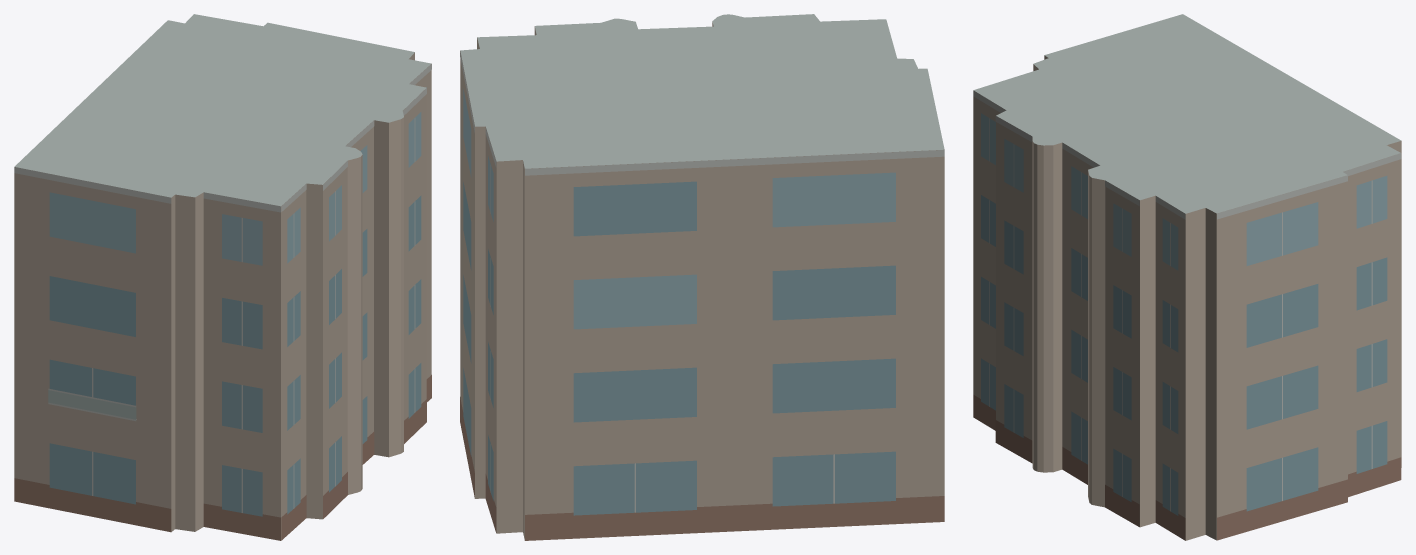
Rendered from survey-upis-32671252.glb.
3 views of the same model, side by side, from view 1: azimuth 30°, elevation 25°; view 2: azimuth 150°, elevation 25°; view 3: azimuth 270°, elevation 25° (orthographic). The views are drawn at different scales.
Visible parts, largest first — view 1: survey-upis-32671252.tmp; view 2: survey-upis-32671252.tmp; view 3: survey-upis-32671252.tmp.
Part boxes in pixels (left/top/right/bottom): survey-upis-32671252.tmp: left=14, top=14, right=431, bottom=540; survey-upis-32671252.tmp: left=460, top=14, right=944, bottom=540; survey-upis-32671252.tmp: left=973, top=14, right=1401, bottom=540.
Size of the model in its own units: 17.11 by 13.05 by 15.5.
